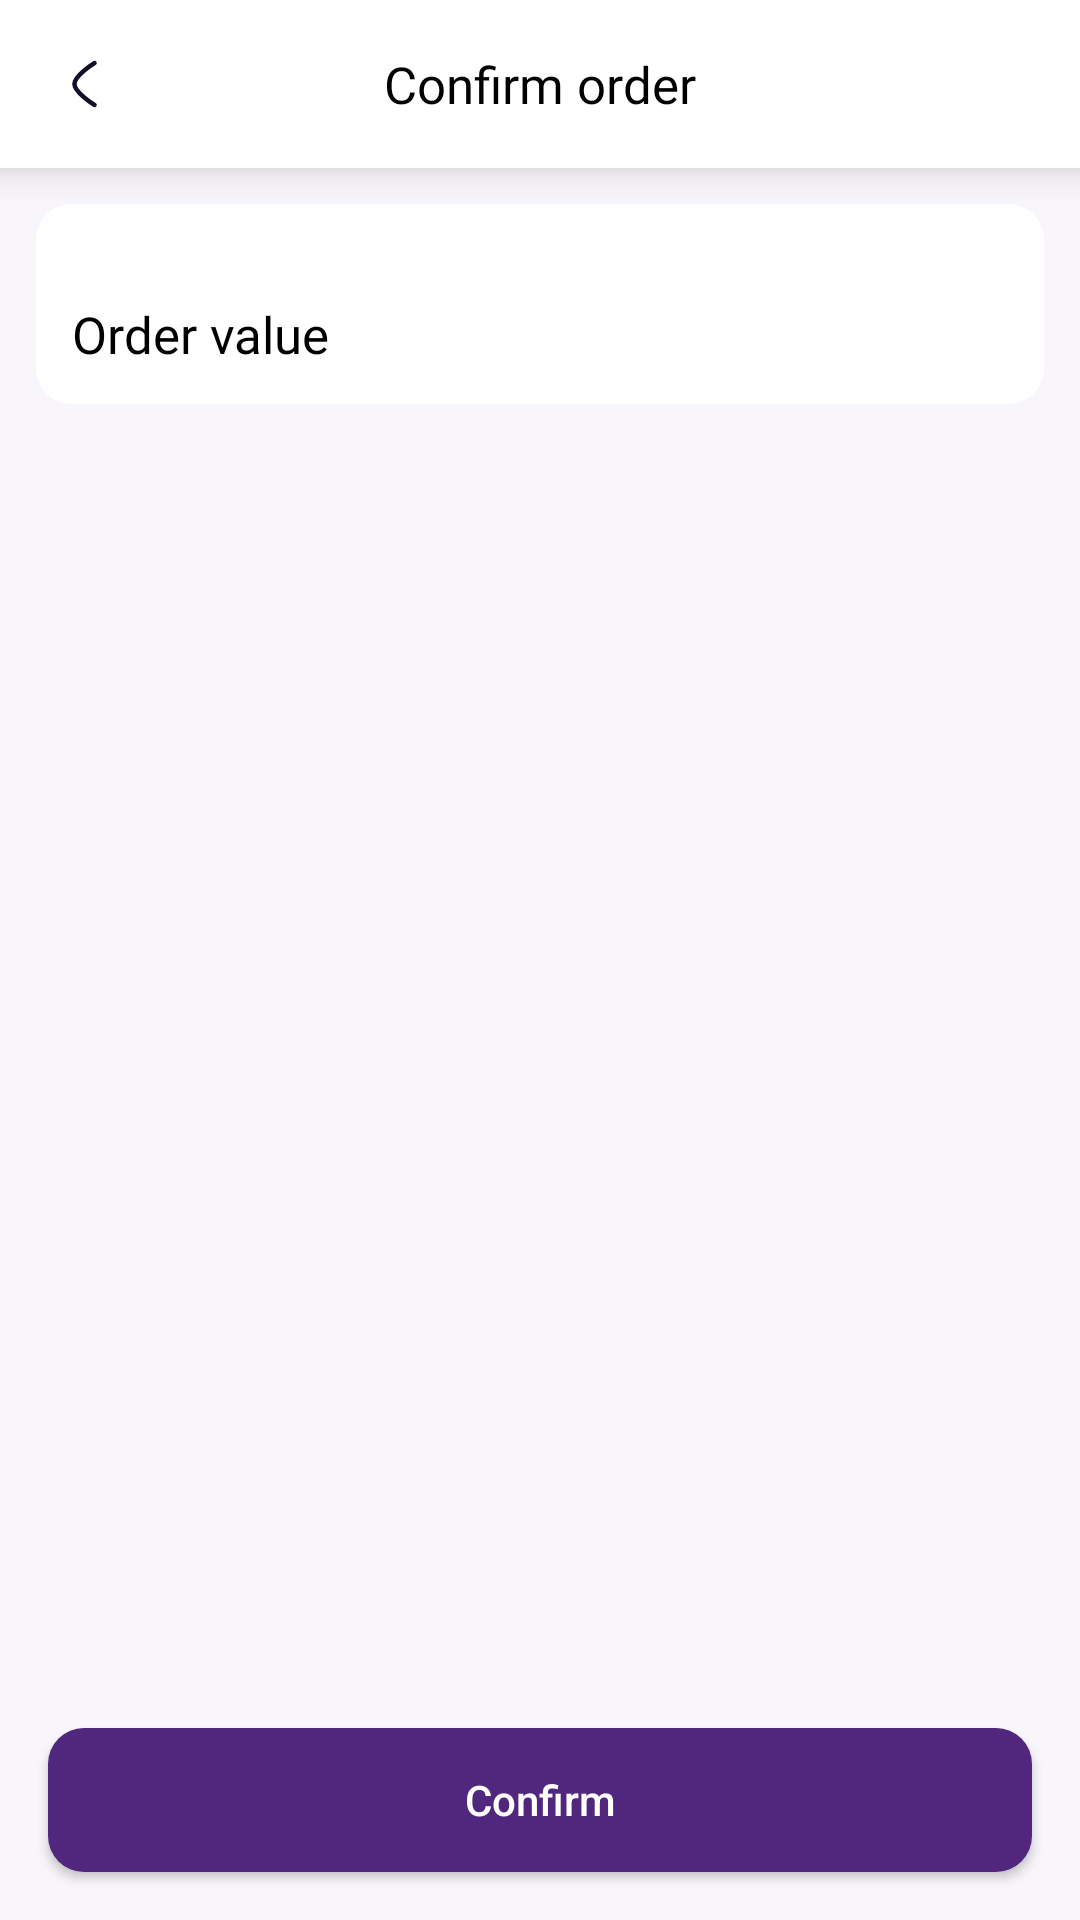

Icons on this 1080 x 1920 Android screen, each with the point to tap as [x,y]:
left: [84,84]
